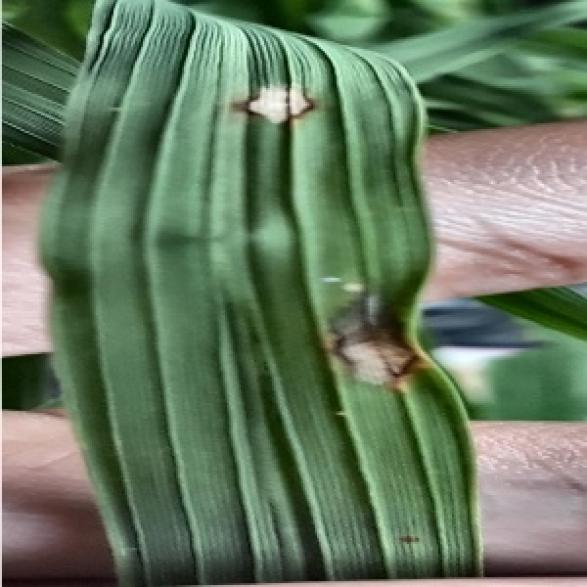Leaf_smut: (313, 268, 427, 399), (213, 68, 321, 135)
